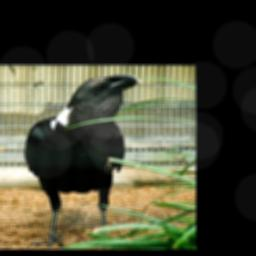Crow: (25, 74, 144, 248)
